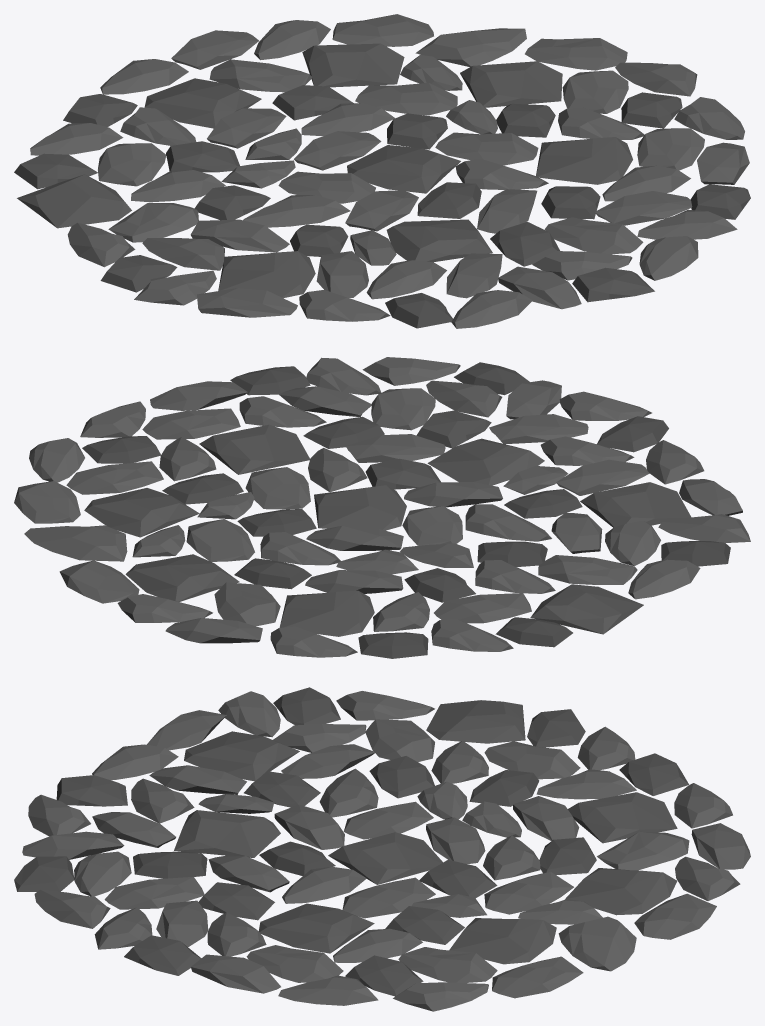
Rendered from road_stone_square.fbx.
The picture shows the model from 3 angles, top to bottom: view 1: azimuth 30°, elevation 25°; view 2: azimuth 150°, elevation 25°; view 3: azimuth 270°, elevation 25°; orthographic projection. The views are drawn at different scales.
Parts seen in each view (by area): view 1: road_stone_square; view 2: road_stone_square; view 3: road_stone_square.
Boxes of the visible parts, x1,y1,x2,y2 form: road_stone_square: (14,14,750,328); road_stone_square: (14,357,750,658); road_stone_square: (14,687,750,1011).
Bounding box in the file's own units: 428 × 8.71 × 418.
